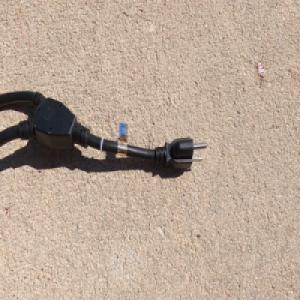Wire: (0, 87, 209, 173)
